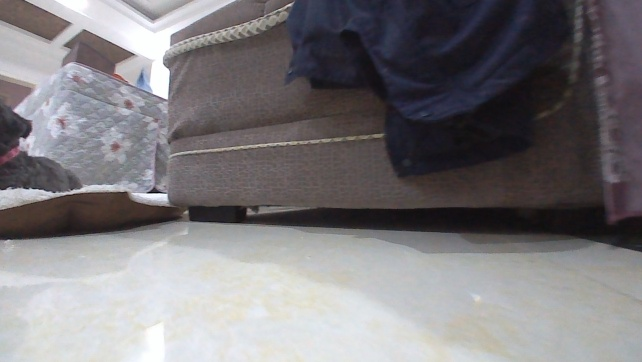sofa1: (155, 0, 641, 235)
